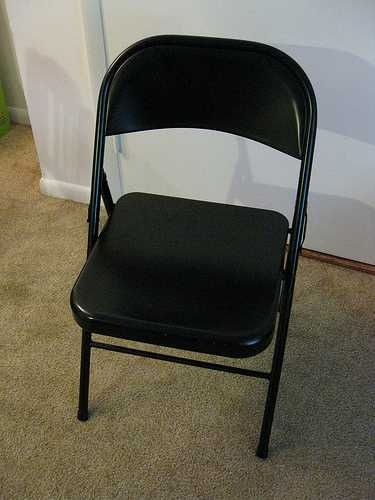obstacle: (71, 35, 316, 457), (0, 81, 10, 136)
